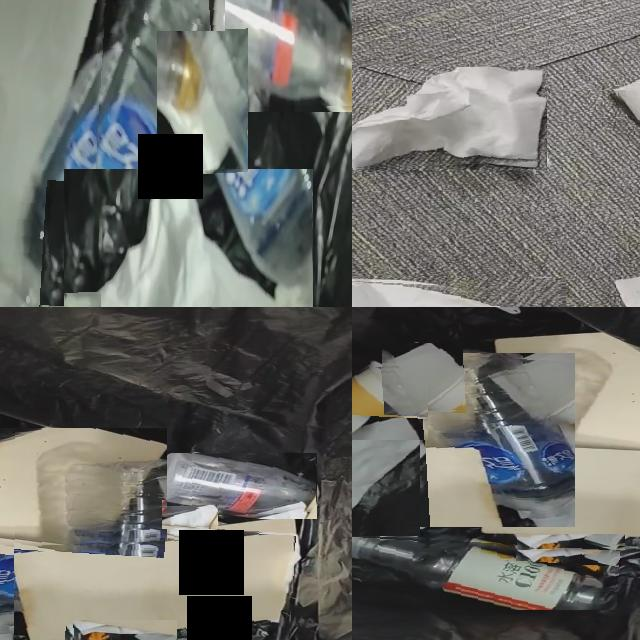bottle: (49, 0, 225, 307), (402, 357, 575, 527), (352, 535, 618, 610), (205, 0, 352, 107), (152, 453, 316, 517), (0, 475, 47, 640)
carton: (14, 530, 295, 640), (0, 428, 167, 545)
dixie_cup: (352, 366, 428, 439)
paper: (0, 0, 97, 307), (85, 169, 280, 307), (352, 67, 547, 169), (157, 31, 248, 174), (352, 412, 420, 511), (384, 343, 463, 410), (73, 620, 177, 640), (517, 534, 625, 549), (162, 508, 218, 528), (65, 295, 92, 307)
